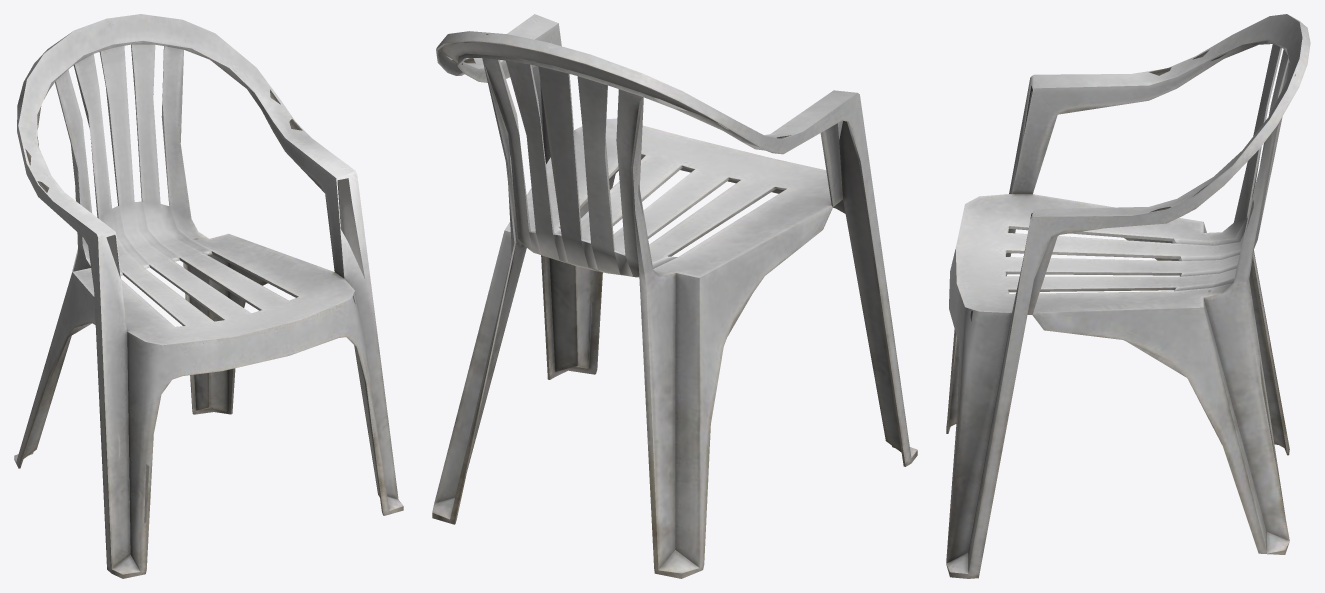
File: plastic_monobloc_chair_01.glb
The picture shows the model from 3 angles, left to right: view 1: azimuth 30°, elevation 25°; view 2: azimuth 150°, elevation 25°; view 3: azimuth 270°, elevation 25°; orthographic projection. The views are drawn at different scales.
Parts seen in each view (by area): view 1: plastic_monobloc_chair_01; view 2: plastic_monobloc_chair_01; view 3: plastic_monobloc_chair_01.
Boxes of the visible parts, box(x1,y1,x2,y2) form: plastic_monobloc_chair_01: box(14, 14, 403, 578); plastic_monobloc_chair_01: box(432, 14, 917, 578); plastic_monobloc_chair_01: box(946, 14, 1310, 578).
Size of the model in its own units: 0.6419 by 0.8798 by 0.6276.
Materials: 1 (1 with a texture image).
